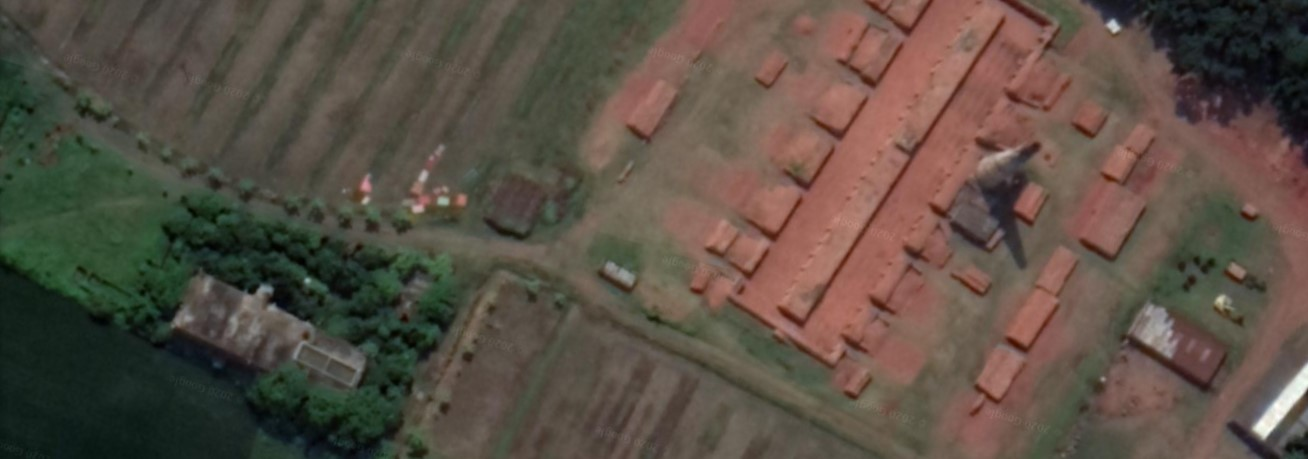kiln: (738, 4, 1098, 392)
